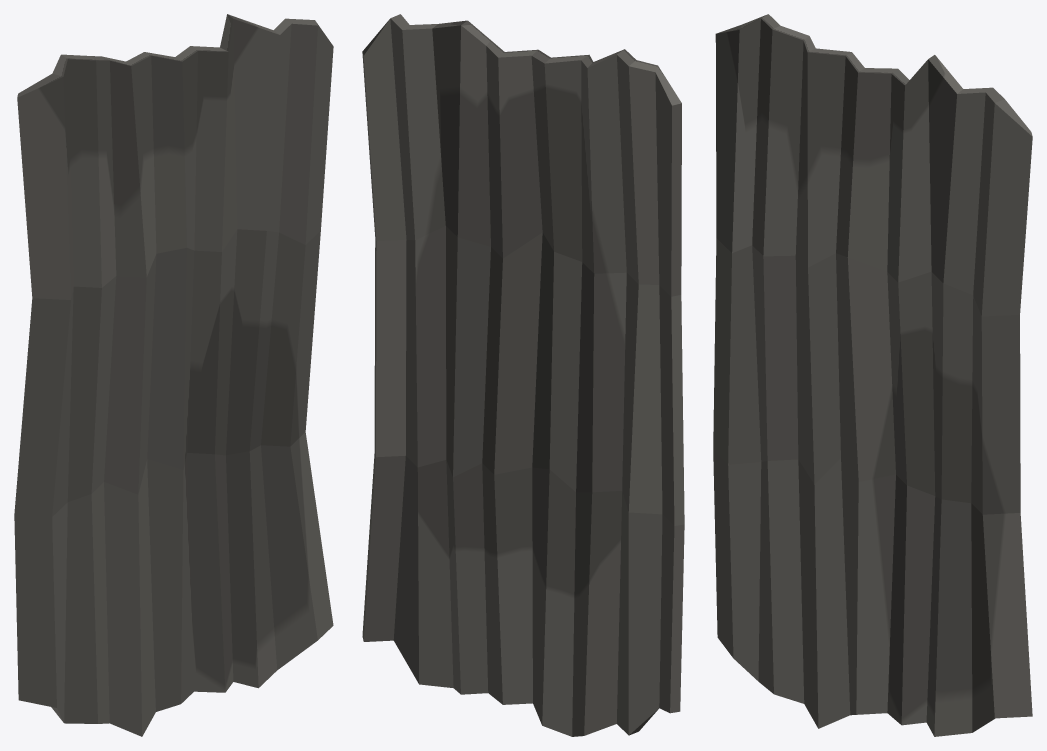
Rendered from SM_Metal_Sheet_A.gltf.
The picture shows the model from 3 angles, left to right: view 1: azimuth 30°, elevation 25°; view 2: azimuth 150°, elevation 25°; view 3: azimuth 330°, elevation 25°; orthographic projection.
Visible parts, largest first — view 1: SM_Metal_Sheet_A; view 2: SM_Metal_Sheet_A; view 3: SM_Metal_Sheet_A.
Boxes of the visible parts, x1,y1,x2,y2 form: SM_Metal_Sheet_A: [14, 14, 333, 736]; SM_Metal_Sheet_A: [362, 14, 684, 736]; SM_Metal_Sheet_A: [713, 14, 1032, 736].
Size of the model in its own units: 1.01 by 2.07 by 0.1718.
1 material, 1 textured.
